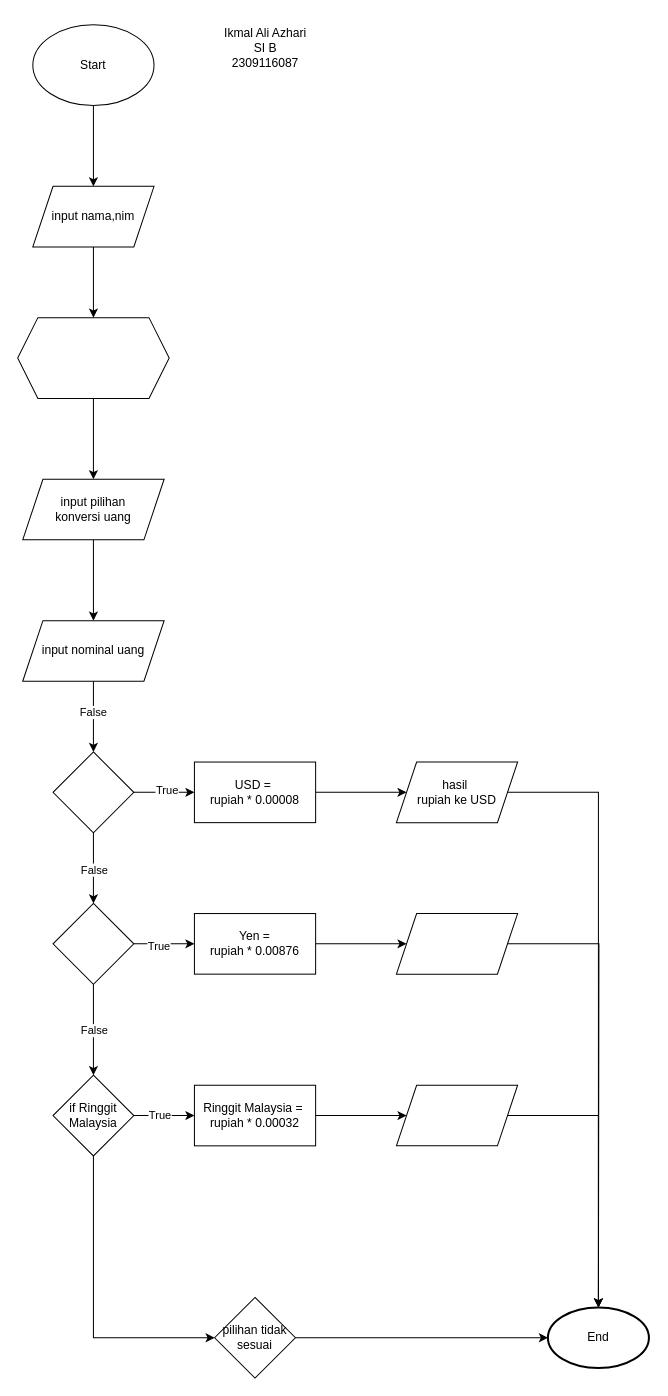
The diagram is 668 pixels wide and 1396 high, and some of its shapes have lost their labels. Here are the shapes that lost their labels. From the top down, the box of each, then its label:
(17, 317, 169, 398): Pilihan konversi uang USD, Yen, Ringgit Malaysia
(52, 751, 134, 833): if USD
(52, 902, 134, 984): if Yen
(395, 913, 518, 974): hasil rupiah ke Yen
(395, 1084, 518, 1146): hasil rupiah ke Ringgit Malaysia
